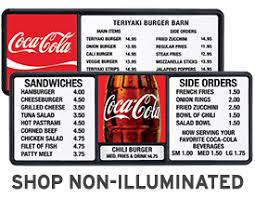coke: (100, 77, 166, 142)
